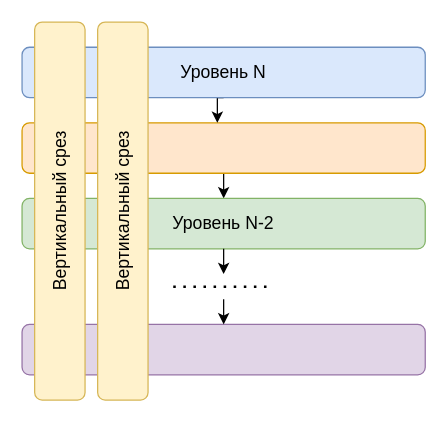
Image size: 447x422. Some labels were removed from this diagram. Each missing label, with the centre of its shape:
"Нижний уровень" goes at (x=223, y=349).
"Уровень N-1" goes at (x=223, y=147).
